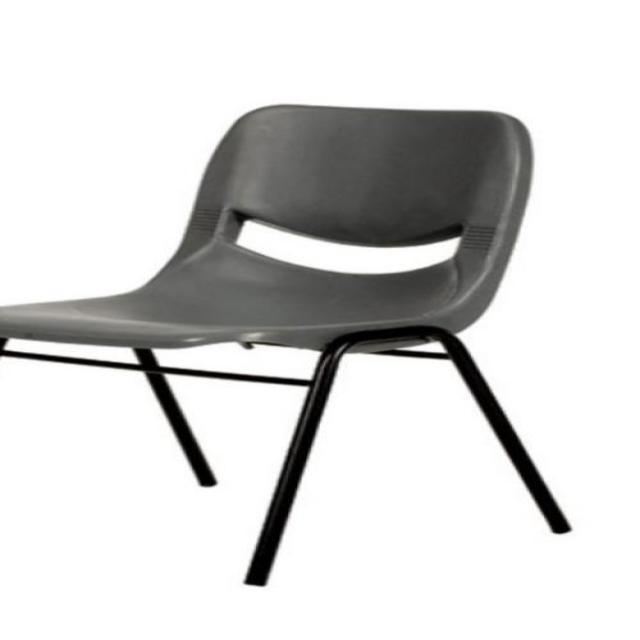chair: (8, 101, 578, 590)
